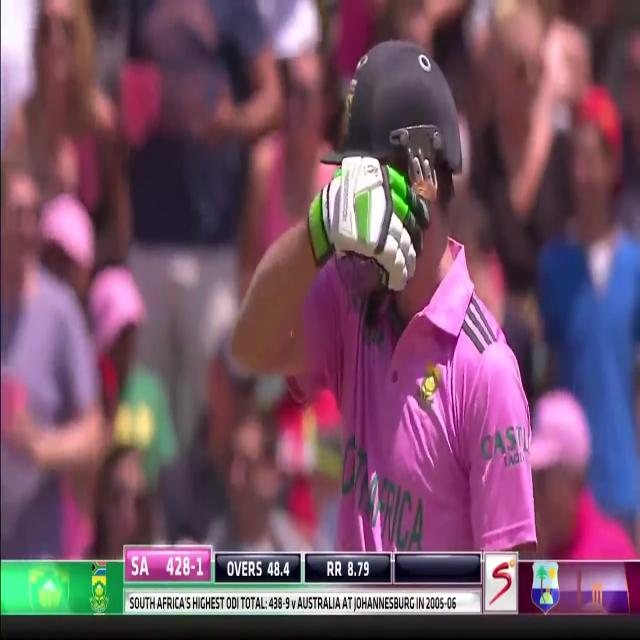Ball: (316, 31, 536, 557)
